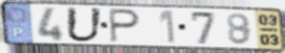1: (157, 9, 177, 46)
4: (36, 6, 66, 43)
7: (189, 10, 218, 46)
8: (226, 12, 252, 46)
P: (108, 7, 142, 44)
U: (64, 6, 105, 44)
